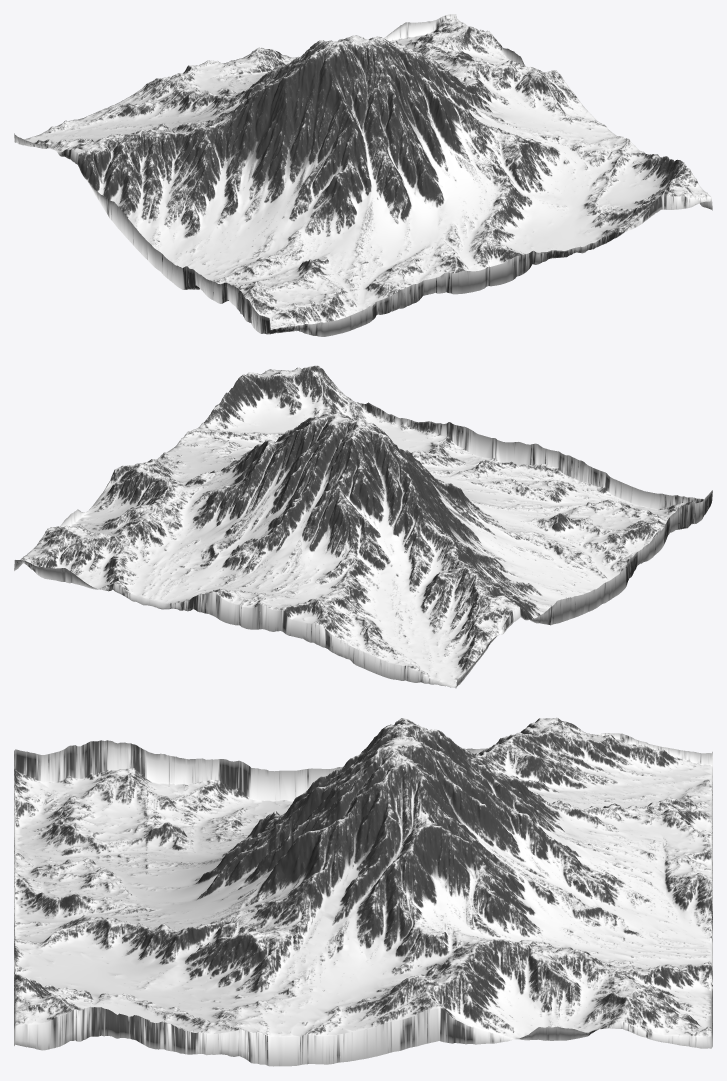
Rendered from mountain92-web.glb.
The picture shows the model from 3 angles, top to bottom: view 1: azimuth 30°, elevation 25°; view 2: azimuth 150°, elevation 25°; view 3: azimuth 270°, elevation 25°; orthographic projection. The views are drawn at different scales.
Parts seen in each view (by area): view 1: Plane; view 2: Plane; view 3: Plane.
Boxes of the visible parts, <box> form: Plane: <box>14,14,712,336</box>; Plane: <box>14,365,712,688</box>; Plane: <box>14,717,712,1066</box>.
Bounding box in the file's own units: 15.81 × 5.39 × 15.81.
1 material, 1 textured.
